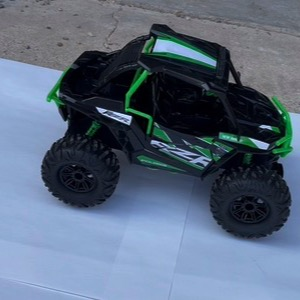polaris: (41, 23, 295, 243)
